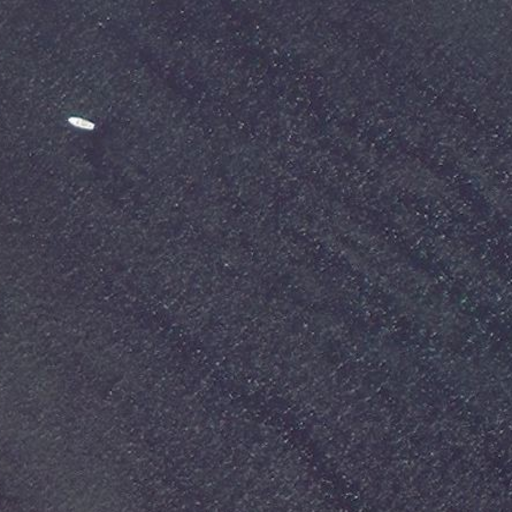ship: (65, 114, 97, 132)
